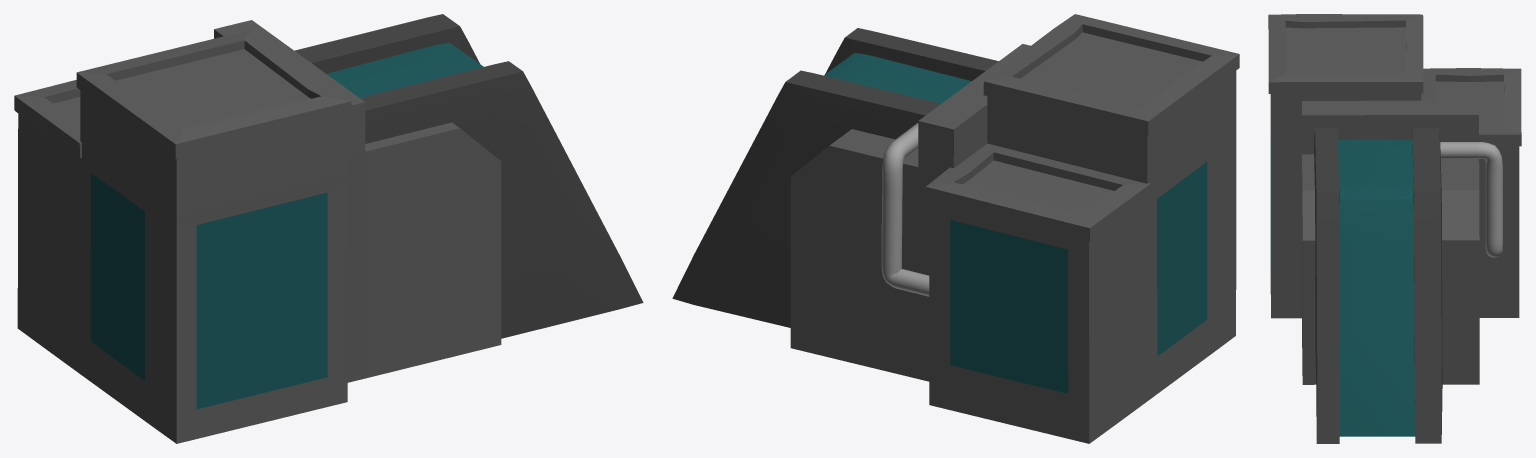
File: building 6_jh_031725.fbx
3 renders of one model, left to right at view 1: azimuth 30°, elevation 25°; view 2: azimuth 150°, elevation 25°; view 3: azimuth 270°, elevation 25°, orthographic. The views are drawn at different scales.
Parts seen in each view (by area): view 1: Cube.031, Cube.089; view 2: Cube.031, Cube.089, Retopo_Plane.003; view 3: Cube.031, Cube.089, Retopo_Plane.003.
Boxes of the visible parts, <box> form: Cube.031: <box>14,20,501,443</box>; Cube.089: <box>294,14,643,338</box>; Cube.031: <box>790,14,1239,443</box>; Cube.089: <box>672,28,998,327</box>; Retopo_Plane.003: <box>881,123,929,296</box>; Cube.031: <box>1268,14,1521,384</box>; Cube.089: <box>1314,128,1442,443</box>; Retopo_Plane.003: <box>1440,142,1502,257</box>.
Bounding box in the file's own units: 7115 × 4170 × 3969.
